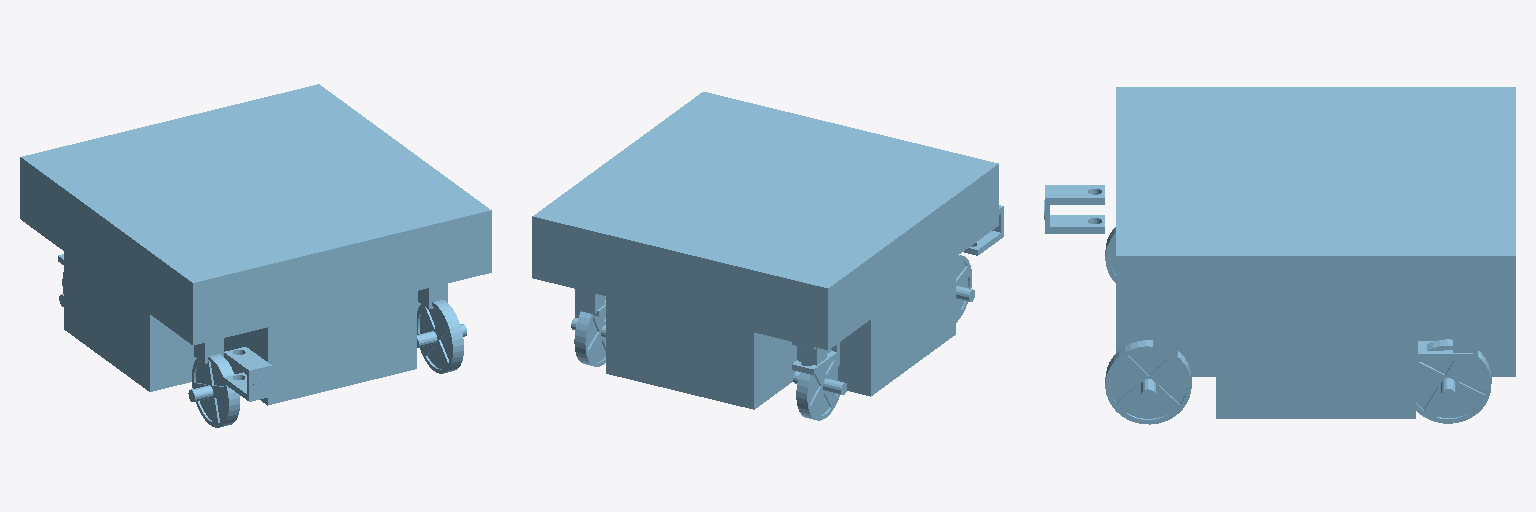
--- What the picture shows (computed from the rendered views, not written in the file) ---
Views: 3 orthographic renders of the robot side by side, from view 1: azimuth 30°, elevation 25°; view 2: azimuth 150°, elevation 25°; view 3: azimuth 270°, elevation 25°.
Robot: mobile_ur10e — 22 links, 21 joints (10 revolute, 4 continuous, 4 prismatic, 3 fixed); root link base_footprint; default pose: joints at zero except 4 at the middle of their limits (f_l_prismatic_joint = 0.03, f_r_prismatic_joint = 0.03, r_r_prismatic_joint = 0.03, r_l_prismatic_joint = 0.03).
Visible links, largest first — view 1: base_link, f_l_ew, f_r_ew, f_r_rotate; view 2: base_link, r_r_ew, r_l_ew, f_r_ew, f_r_rotate, r_r_rotate; view 3: base_link, f_l_ew, r_l_ew, f_r_rotate, r_l_rotate.
Link boxes in pixels (x1,y1,x2,y2): base_link: [20, 84, 491, 405]; f_l_ew: [417, 300, 466, 373]; f_r_ew: [188, 354, 239, 427]; f_r_rotate: [224, 347, 271, 401]; base_link: [532, 92, 998, 409]; r_r_ew: [793, 349, 846, 420]; r_l_ew: [571, 296, 605, 366]; f_r_ew: [956, 255, 974, 322]; f_r_rotate: [964, 205, 1003, 255]; r_r_rotate: [792, 342, 839, 374]; base_link: [1116, 87, 1515, 418]; f_l_ew: [1105, 340, 1191, 424]; r_l_ew: [1416, 339, 1491, 423]; f_r_rotate: [1044, 185, 1104, 233]; r_l_rotate: [1416, 329, 1472, 360].
Bounding box of the posed robot: 0.8 × 0.9427 × 0.4113 m (x, y, z).
11 mesh visuals loaded from 20 distinct referenced files (11 binary STL); not drawn: 9 (reference not matched to a file when rendering).

The robot description file, URDF, robot "mobile_ur10e":
<?xml version="1.0" encoding="utf-8"?>
<!-- This URDF was automatically created by SolidWorks to URDF Exporter! Originally created by Stephen Brawner ([email redacted]) 
     Commit Version: 1.6.0-4-g7f85cfe  Build Version: 1.6.7995.38578
     For more information, please see http://wiki.ros.org/sw_urdf_exporter -->
<robot
  name="mobile_ur10e">
  
  <link
    name="base_footprint"/>
  
   <joint
    name="base_joint"
    type="fixed">
    <origin
      xyz="0.0 0.0 0.0"
      rpy="0.0 0.0 0.0" /> 
    <parent
      link="base_footprint" />
    <child
      link="base_link" />
  </joint>


  <link
    name="base_link">
    <inertial>
      <origin
        xyz="-0.000116077702547958 -0.0350031160113934 0.298943810669157"
        rpy="0 0 0" />
      <mass
        value="56"/>
      <inertia
        ixx="5.31"
        ixy="0.0"
        ixz="0.0"
        iyy="5.258"
        iyz="0.0"
        izz="5.310" />
    </inertial>
    <visual>
      <origin
        xyz="0 0 0"
        rpy="0 0 0" />
      <geometry>
        <mesh
          filename="package://mobile_base/meshes/base_link.STL" />
      </geometry>
      <material
        name="">
        <color
          rgba="0.615686274509804 0.811764705882353 0.925490196078431 1" />
      </material>
    </visual>
    <collision>
      <origin
        xyz="0 0 0"
        rpy="0 0 0" />
      <geometry>
        <mesh
          filename="package://mobile_base/meshes/base_link.STL" />
      </geometry>
    </collision>
  </link>
  <link
    name="f_l_prismatic">
    <inertial>
      <origin
        xyz="-1.66533453693773E-16 2.22044604925031E-16 -0.00277737910243356"
        rpy="0 0 0" />
      <mass
        value="0.63" />
      <inertia
        ixx="0.0"
        ixy="0.0"
        ixz="0.0"
        iyy="0.0"
        iyz="0.0"
        izz="0.0" />
    </inertial>
      <visual>
      <origin
        xyz="0 0 0"
        rpy="0 0 0" />
      <geometry>
        <mesh
          filename="package://mobile_base/meshes/f_l_prismatic.STL" />
      </geometry>
      <material
        name="">
        <color
          rgba="0.615686274509804 0.811764705882353 0.929411764705882 1" />
      </material>
    </visual>
    <collision>
      <origin
        xyz="0 0 0"
        rpy="0 0 0" />
      <geometry>
        <mesh
          filename="package://mobile_base/meshes/f_l_prismatic.STL" />
      </geometry>
    </collision>
  </link>
  <joint
    name="f_l_prismatic_joint"
    type="prismatic">
    <origin
      xyz="0.2998 -0.33482 0.24287"
      rpy="0.0026114 0.002229 0" /> 
    <parent
      link="base_link" />
    <child
      link="f_l_prismatic" />
    <axis xyz="0 0 1" />
      <limit
      lower="0.01"
      upper="0.05"
      effort="0"
      velocity="0" />
    <dynamics 
    damping="50"
    friction="1"
    spring_stiffness="0" 
    spring_referance="0" />
  </joint>
  <link
    name="f_1_rotate">
    <inertial>
      <origin
        xyz="-0.000108967571125163 -0.0488863047415668 -0.000127660035035393"
        rpy="0 0 0" />
      <mass
        value="0.35" />
      <inertia
        ixx="0.01"
        ixy="0.0"
        ixz="0.0"
        iyy="0.01"
        iyz="0.0"
        izz="0.0" />
    </inertial>
    <visual>
      <origin
        xyz="0 0 0"
        rpy="0 0 0" />
      <geometry>
        <mesh
          filename="package://mobile_base/meshes/f_1_rotate.STL" />
      </geometry>
      <material
        name="">
        <color
          rgba="0.615686274509804 0.811764705882353 0.929411764705882 1" />
      </material>
    </visual>
    <collision>
      <origin
        xyz="0 0 0"
        rpy="0 0 0" />
      <geometry>
        <mesh
          filename="package://mobile_base/meshes/f_1_rotate.STL" />
      </geometry>
    </collision>
  </link>
  <joint
    name="f_1_rotate_joint"
    type="revolute">
    <origin
      xyz="0 0 -0.0527773791024335"
      rpy="1.56818496671092 -0.00222898866464819 0" />
    <parent
      link="f_l_prismatic" />
    <child
      link="f_1_rotate" />
    <axis
      xyz="0.00222898681890077 0.999994106215458 0.00261135062896505" />
    <limit
      lower="-1.5708"
      upper="1.5708"
      effort="0"
      velocity="0" />
  </joint>
  <link
    name="f_l_ew">
    <inertial>
      <origin
        xyz="0 0 0"
        rpy="0 0 0" />
      <mass
        value="1.89" />
      <inertia
        ixx="018"
        ixy="0.01"
        ixz="0.17"
        iyy="0.34"
        iyz="0.01"
        izz="0.18" />
    </inertial>
    <visual>
      <origin
        xyz="0 0 0"
        rpy="0 0 0" />
      <geometry>
        <mesh
          filename="package://mobile_base/meshes/f_l_ew.STL" />
      </geometry>
      <material
        name="">
        <color
          rgba="0.615686274509804 0.811764705882353 0.929411764705882 1" />
      </material>
    </visual>
    <collision>
      <origin
        xyz="0 0 0"
        rpy="0 0 0" />
      <geometry>
        <mesh
          filename="package://mobile_base/meshes/f_l_ew.STL" />
      </geometry>
    </collision>
  </link>
  <joint
    name="f_l_ew_rotate"
    type="continuous">
    <origin
      xyz="-0.000222898681890127 -0.0999994106215459 -0.000261135062896545"
      rpy="3.13936402790797 -1.57065442321589 0" />
    <parent
      link="f_1_rotate" />
    <child
      link="f_l_ew" />
    <axis
      xyz="0 0 1" />
  </joint>
  <link
    name="f_r_prismatic">
    <inertial>
      <origin
        xyz="-1.11022302462516E-16 1.11022302462516E-16 -0.0027773791024335"
        rpy="0 0 0" />  
      <mass
        value="0.63" />
      <inertia
        ixx="0.0"
        ixy="0.0"
        ixz="0.0"
        iyy="0.0"
        iyz="0.0"
        izz="0.0" />
    </inertial>
     <visual>
      <origin
        xyz="0 0 0"
        rpy="0 0 0" />
      <geometry>
        <mesh
          filename="package://mobile_base/meshes/f_r_prismatic.STL" />
      </geometry>
      <material
        name="">
        <color
          rgba="0.615686274509804 0.811764705882353 0.929411764705882 1" />
      </material>
    </visual>
    <collision>
      <origin
        xyz="0 0 0"
        rpy="0 0 0" />
      <geometry>
        <mesh
          filename="package://mobile_base/meshes/f_r_prismatic.STL" />
      </geometry>
    </collision>
  </link>
  <joint
    name="f_r_prismatic_joint"
    type="prismatic">
    <origin
      xyz="-0.3002 -0.3349 0.24421"
      rpy="0.0026114 0.002229 0" />
    <parent
      link="base_link" />
    <child
      link="f_r_prismatic" />
    <axis
      initial_position = "500"
      xyz="0 0 1" />
    <limit
      lower="0.01"
       upper="0.05"
      effort="0"
      velocity="0" />
    <dynamics 
    damping="50"  
    friction="1"
    spring_stiffness="0" 
    spring_referance="0"/>
  </joint>
  <link
    name="f_r_rotate">
    <inertial>
      <origin
        xyz="-0.000108967571125163 -0.0488863047415668 -0.000127660035035393"
        rpy="0 0 0" />
      <mass
        value="0.35" />
      <inertia
        ixx="01"
        ixy="0.0"
        ixz="0.0"
        iyy="1"
        iyz="0.0"
        izz="0.0" />
    </inertial>
    <visual>
      <origin
        xyz="0 0 0"
        rpy="0 0 0" />
      <geometry>
        <mesh
          filename="package://mobile_base/meshes/f_r_rotate.STL" />
      </geometry>
      <material
        name="">
        <color
          rgba="0.615686274509804 0.811764705882353 0.929411764705882 1" />
      </material>
    </visual>
    <collision>
      <origin
        xyz="0 0 0"
        rpy="0 0 0" />
      <geometry>
        <mesh
          filename="package://mobile_base/meshes/f_r_rotate.STL" />
      </geometry>
    </collision>
  </link>
  <joint
    name="f_r_rotate_joint"
    type="revolute">
    <origin
      xyz="0 0 -0.0527773791024335"
      rpy="1.56818496671092 -0.00222898866464819 0" />
    <parent
      link="f_r_prismatic" />
    <child
      link="f_r_rotate" />
    <axis
      xyz="0.00222898681890077 0.999994106215458 0.00261135062896505" />
    <limit
      lower="-1.5708"
      upper="1.5708"
      effort="0"
      velocity="0" />
  </joint>
  <link
    name="f_r_ew">
    <inertial>
      <origin
        xyz="5.55111512312578E-17 0 0"
        rpy="0 0 0" />
      <mass
        value="1.89" />
      <inertia
        ixx="018"
        ixy="0.01"
        ixz="0.17"
        iyy="0.34"
        iyz="0.01"
        izz="0.18" />
    </inertial>
    <visual>
      <origin
        xyz="0 0 0"
        rpy="0 0 0" />
      <geometry>
        <mesh
          filename="package://mobile_base/meshes/f_r_ew.STL" />
      </geometry>
      <material
        name="">
        <color
          rgba="0.615686274509804 0.811764705882353 0.929411764705882 1" />
      </material>
    </visual>
    <collision>
      <origin
        xyz="0 0 0"
        rpy="0 0 0" />
      <geometry>
        <mesh
          filename="package://mobile_base/meshes/f_r_ew.STL" />
      </geometry>
    </collision>
  </link>
  <joint
    name="f_r_ew_joint"
    type="continuous">
    <origin
      xyz="-0.000222898681890127 -0.0999994106215459 -0.000261135062896545"
      rpy="-0.00222862568182399 -1.57065442321589 0" />
    <parent
      link="f_r_rotate" />
    <child
      link="f_r_ew" />
    <axis
      xyz="0 0 1" />
  </joint>
  <link
    name="r_r_prismatic">
    <inertial>
      <origin
        xyz="-5.55111512312578E-17 1.11022302462516E-16 -0.00277737910243359"
        rpy="0 0 0" />
      <mass
        value="0.63" />
      <inertia
        ixx="0.0"
        ixy="0.0"
        ixz="0.0"
        iyy="0.0"
        iyz="0.0"
        izz="0.0" />
    </inertial>

    <visual>
      <origin
        xyz="0 0 0"
        rpy="0 0 0" />
      <geometry>
        <mesh
          filename="package://mobile_base/meshes/r_r_prismatic.STL" />
      </geometry>
      <material
        name="">
        <color
          rgba="0.615686274509804 0.811764705882353 0.929411764705882 1" />
      </material>
    </visual>
    <collision>
      <origin
        xyz="0 0 0"
        rpy="0 0 0" />
      <geometry>
        <mesh
          filename="package://mobile_base/meshes/r_r_prismatic.STL" />
      </geometry>
    </collision>
  </link>
  <joint
    name="r_r_prismatic_joint"
    type="prismatic">
    <origin
      xyz="-0.30028 0.2651 0.24578"
      rpy="0.0026114 0.002229 0" /> original 0.24578
    <parent
      link="base_link" />
    <child
      link="r_r_prismatic" />
    <axis
      
      xyz="0 0 1" />
    <limit
      lower="0.01"
       upper="0.05"
      effort="0"
      velocity="0" />
    <dynamics 
    damping="50"
    friction="1"
    spring_stiffness="0" 
    spring_referance="0" />
  </joint>
  <link
    name="r_r_rotate">
    <inertial>
      <origin
        xyz="-0.000108967571125107 -0.0488863047415668 -0.000127660035035393"
        rpy="0 0 0" />
      <mass
        value="0.35" />
      <inertia
        ixx="0.01"
        ixy="0.0"
        ixz="0.0"
        iyy="0.01"
        iyz="0.0"
        izz="0.0" />
    </inertial>
    <visual>
      <origin
        xyz="0 0 0"
        rpy="0 0 0" />
      <geometry>
        <mesh
          filename="package://mobile_base/meshes/r_r_rotate.STL" />
      </geometry>
      <material
        name="">
        <color
          rgba="0.615686274509804 0.811764705882353 0.929411764705882 1" />
      </material>
    </visual>
    <collision>
      <origin
        xyz="0 0 0"
        rpy="0 0 0" />
      <geometry>
        <mesh
          filename="package://mobile_base/meshes/r_r_rotate.STL" />
      </geometry>
    </collision>
  </link>
  <joint
    name="r_r_rotate_joint"
    type="revolute">
    <origin
      xyz="0 0 -0.0527773791024335"
      rpy="1.56818496671092 -0.00222898866464819 0" />
    <parent
      link="r_r_prismatic" />
    <child
      link="r_r_rotate" />
    <axis
      xyz="0.00222898681890077 0.999994106215458 0.00261135062896505" />
    <limit
      lower="-1.5708" 
      upper="1.5708"
      effort="0"
      velocity="0" />
  </joint>
  <link
    name="r_r_ew">
    <inertial>
      <origin
        xyz="0 0 0"
        rpy="0 0 0" />
      <mass
        value="1.89" />
      <inertia
        ixx="018"
        ixy="0.01"
        ixz="0.17"
        iyy="0.34"
        iyz="0.01"
        izz="0.18" />
    </inertial>
    <visual>
      <origin
        xyz="0 0 0"
        rpy="0 0 0" />
      <geometry>
        <mesh
          filename="package://mobile_base/meshes/r_r_ew.STL" />
      </geometry>
      <material
        name="">
        <color
          rgba="0.615686274509804 0.811764705882353 0.929411764705882 1" />
      </material>
    </visual>
    <collision>
      <origin
        xyz="0 0 0"
        rpy="0 0 0" />
      <geometry>
        <mesh
          filename="package://mobile_base/meshes/r_r_ew.STL" />
      </geometry>
    </collision>
  </link>
  <joint
    name="r_r_ew_joint"
    type="continuous">
    <origin
      xyz="-0.000222898681890127 -0.0999994106215459 -0.000261135062896489"
      rpy="-0.00222862568182399 -1.57065442321589 0" />
    <parent
      link="r_r_rotate" />
    <child
      link="r_r_ew" />
    <axis
      xyz="0 0 1" />
  </joint>
  <link
    name="r_l_prismatic">
    <inertial>
      <origin
        xyz="0 1.66533453693773E-16 -0.0027773791024335"
        rpy="0 0 0" />
      <mass
        value="0.63" />
      <inertia
        ixx="0.0"
        ixy="0.0"
        ixz="0.0"
        iyy="0.0"
        iyz="0.0"
        izz="0.0" />
    </inertial>
 
    <visual>
      <origin
        xyz="0 0 0"
        rpy="0 0 0" />
      <geometry>
        <mesh
          filename="package://mobile_base/meshes/r_l_prismatic.STL" />
      </geometry>
      <material
        name="">
        <color
          rgba="0.615686274509804 0.811764705882353 0.929411764705882 1" />
      </material>
    </visual>
    <collision>
      <origin
        xyz="0 0 0"
        rpy="0 0 0" />
      <geometry>
        <mesh
          filename="package://mobile_base/meshes/r_l_prismatic.STL" />
      </geometry>
    </collision>
  </link>

  <joint
    name="r_l_prismatic_joint"
    type="prismatic">
    <origin
      xyz="0.299720607952755 0.265181054293093 0.24444162435061"
      rpy="0.00261136657109324 0.00222898106467852 0" /> -0.24444162435061
    <parent
      link="base_link" />
    <child
      link="r_l_prismatic" />
    <axis
      xyz="0 0 1" />
    <limit
      lower="0.01"
       upper="0.05"
      effort="0"
      velocity="0" />
    <dynamics 
      damping="50"
      friction="1"
      spring_stiffness="0" 
      spring_referance="0"
      />
  </joint>
  <link
    name="r_l_rotate">
    <inertial>
      <origin
        xyz="-0.000108967571125052 -0.0488863047415668 -0.000127660035035393"
        rpy="0 0 0" />
      <mass
        value="0.35" />
      <inertia
        ixx="0.01"
        ixy="0.0"
        ixz="0.0"
        iyy="0.01"
        iyz="0.0"
        izz="0.0" />
    </inertial>
    <visual>
      <origin
        xyz="0 0 0"
        rpy="0 0 0" />
      <geometry>
        <mesh
          filename="package://mobile_base/meshes/r_l_rotate.STL" />
      </geometry>
      <material
        name="">
        <color
          rgba="0.615686274509804 0.811764705882353 0.929411764705882 1" />
      </material>
    </visual>
    <collision>
      <origin
        xyz="0 0 0"
        rpy="0 0 0" />
      <geometry>
        <mesh
          filename="package://mobile_base/meshes/r_l_rotate.STL" />
      </geometry>
    </collision>
  </link>
  <joint
    name="r_l_rotate_joint"
    type="revolute">
    <origin
      xyz="0 0 -0.0527773791024335"
      rpy="1.56818496671092 -0.00222898866464819 0" />
    <parent
      link="r_l_prismatic" />
    <child
      link="r_l_rotate" />
    <axis
      xyz="0.00222898681890077 0.999994106215458 0.00261135062896505" />
    <limit
      lower="-1.5708"
      upper="1.5708"
      effort="0"
      velocity="0" />
  </joint>
  <link
    name="r_l_ew">
    <inertial>
      <origin
        xyz="0 1.38777878078145E-17 0"
        rpy="0 0 0" />
      <mass
        value="1.89" />
      <inertia
        ixx="018"
        ixy="0.01"
        ixz="0.17"
        iyy="0.34"
        iyz="0.01"
        izz="0.18" />
    </inertial>
    <visual>
      <origin
        xyz="0 0 0"
        rpy="0 0 0" />
      <geometry>
        <mesh
          filename="package://mobile_base/meshes/r_l_ew.STL" />
      </geometry>
      <material
        name="">
        <color
          rgba="0.615686274509804 0.811764705882353 0.929411764705882 1" />
      </material>
    </visual>
    <collision>
      <origin
        xyz="0 0 0"
        rpy="0 0 0" />
      <geometry>
        <mesh
          filename="package://mobile_base/meshes/r_l_ew.STL" />
      </geometry>
    </collision>
  </link>
  <joint
    name="r_l_ew_joint"
    type="continuous">
    <origin
      xyz="-0.000222898681890127 -0.0999994106215459 -0.000261135062896489"
      rpy="3.13936402790797 -1.57065442321589 0" />
    <parent
      link="r_l_rotate" />
    <child
      link="r_l_ew" />
    <axis
      xyz="0 0 1" />
  </joint>


  <joint name="mobile_to_ur10e" type="fixed">
    <origin xyz="0 0 0.51" rpy="0 0 0"/>
    <parent link="base_link"/>  
    <child link="manipulator_base_link"/>  
  </joint>  
  <link name="manipulator_base_link">
    <visual>
      <geometry>
        <mesh filename="package://mobile_base/meshes/ur10e/visual/base.dae"/>
      </geometry>
      <material name="LightGrey">
        <color rgba="0.7 0.7 0.7 1.0"/>
      </material>
    </visual>
    <collision>
      <geometry>
        <mesh filename="package://mobile_base/meshes/ur10e/collision/base.stl"/>
      </geometry>
    </collision>
    <inertial>
      <mass value="4.0"/>
      <origin rpy="0 0 0" xyz="0.0 0.0 0.0"/>
      <inertia ixx="0.0061063308908" ixy="0.0" ixz="0.0" iyy="0.0061063308908" iyz="0.0" izz="0.01125"/>
    </inertial>
  </link>
  <joint name="shoulder_pan_joint" type="revolute">
    <parent link="manipulator_base_link"/>
    <child link="shoulder_link"/>
    <origin rpy="0.0 0.0 0.0" xyz="0.0 0.0 0.181"/>
    <axis xyz="0 0 1"/>
    <limit effort="330.0" lower="-6.283185307179586" upper="6.283185307179586" velocity="3.14"/>
    <dynamics damping="0.0" friction="0.0"/>
  </joint>
  <link name="shoulder_link">
    <visual>
      <geometry>
        <mesh filename="package://mobile_base/meshes/ur10e/visual/shoulder.dae"/>
      </geometry>
      <material name="LightGrey">
        <color rgba="0.7 0.7 0.7 1.0"/>
      </material>
    </visual>
    <collision>
      <geometry>
        <mesh filename="package://mobile_base/meshes/ur10e/collision/shoulder.stl"/>
      </geometry>
    </collision>
    <inertial>
      <mass value="7.778"/>
      <origin rpy="0 0 0" xyz="0.0 0.0 0.0"/>
      <inertia ixx="0.03147431257693659" ixy="0.0" ixz="0.0" iyy="0.03147431257693659" iyz="0.0" izz="0.021875624999999996"/>
    </inertial>
  </link>
  <joint name="shoulder_lift_joint" type="revolute">
    <parent link="shoulder_link"/>
    <child link="upper_arm_link"/>
    <origin rpy="0.0 1.5707963267948966 0.0" xyz="0.0 0.176 0.0"/>
    <axis xyz="0 1 0"/>
    <limit effort="330.0" lower="-6.283185307179586" upper="6.283185307179586" velocity="3.14"/>
    <dynamics damping="0.0" friction="0.0"/>
  </joint>
  <link name="upper_arm_link">
    <visual>
      <geometry>
        <mesh filename="package://mobile_base/meshes/ur10e/visual/upperarm.dae"/>
      </geometry>
      <material name="LightGrey">
        <color rgba="0.7 0.7 0.7 1.0"/>
      </material>
    </visual>
    <collision>
      <geometry>
        <mesh filename="package://mobile_base/meshes/ur10e/collision/upperarm.stl"/>
      </geometry>
    </collision>
    <inertial>
      <mass value="12.93"/>
      <origin rpy="0 0 0" xyz="0.0 0.0 0.3065"/>
      <inertia ixx="0.4230737407704359" ixy="0.0" ixz="0.0" iyy="0.4230737407704359" iyz="0.0" izz="0.03636562499999999"/>
    </inertial>
  </link>
  <joint name="elbow_joint" type="revolute">
    <parent link="upper_arm_link"/>
    <child link="forearm_link"/>
    <origin rpy="0.0 0.0 0.0" xyz="0.0 -0.137 0.613"/>
    <axis xyz="0 1 0"/>
    <limit effort="150.0" lower="-3.141592653589793" upper="3.141592653589793" velocity="3.14"/>
    <dynamics damping="0.0" friction="0.0"/>
  </joint>
  <link name="forearm_link">
    <visual>
      <geometry>
        <mesh filename="package://mobile_base/meshes/ur10e/visual/forearm.dae"/>
      </geometry>
      <material name="LightGrey">
        <color rgba="0.7 0.7 0.7 1.0"/>
      </material>
    </visual>
    <collision>
      <geometry>
        <mesh filename="package://mobile_base/meshes/ur10e/collision/forearm.stl"/>
      </geometry>
    </collision>
    <inertial>
      <mass value="3.87"/>
      <origin rpy="0 0 0" xyz="0.0 0.0 0.2855"/>
      <inertia ixx="0.11059036576383598" ixy="0.0" ixz="0.0" iyy="0.11059036576383598" iyz="0.0" izz="0.010884375"/>
    </inertial>
  </link>
  <joint name="wrist_1_joint" type="revolute">
    <parent link="forearm_link"/>
    <child link="wrist_1_link"/>
    <origin rpy="0.0 1.5707963267948966 0.0" xyz="0.0 0.0 0.571"/>
    <axis xyz="0 1 0"/>
    <limit effort="54.0" lower="-6.283185307179586" upper="6.283185307179586" velocity="6.28"/>
    <dynamics damping="0.0" friction="0.0"/>
  </joint>
  <link name="wrist_1_link">
    <visual>
      <geometry>
        <mesh filename="package://mobile_base/meshes/ur10e/visual/wrist1.dae"/>
      </geometry>
      <material name="LightGrey">
        <color rgba="0.7 0.7 0.7 1.0"/>
      </material>
    </visual>
    <collision>
      <geometry>
        <mesh filename="package://mobile_base/meshes/ur10e/collision/wrist1.stl"/>
      </geometry>
    </collision>
    <inertial>
      <mass value="1.96"/>
      <origin rpy="0 0 0" xyz="0.0 0.135 0.0"/>
      <inertia ixx="0.005108247956699999" ixy="0.0" ixz="0.0" iyy="0.005108247956699999" iyz="0.0" izz="0.005512499999999999"/>
    </inertial>
  </link>
  <joint name="wrist_2_joint" type="revolute">
    <parent link="wrist_1_link"/>
    <child link="wrist_2_link"/>
    <origin rpy="0.0 0.0 0.0" xyz="0.0 0.135 0.0"/>
    <axis xyz="0 0 1"/>
    <limit effort="54.0" lower="-6.283185307179586" upper="6.283185307179586" velocity="6.28"/>
    <dynamics damping="0.0" friction="0.0"/>
  </joint>
  <link name="wrist_2_link">
    <visual>
      <geometry>
        <mesh filename="package://mobile_base/meshes/ur10e/visual/wrist2.dae"/>
      </geometry>
      <material name="LightGrey">
        <color rgba="0.7 0.7 0.7 1.0"/>
      </material>
    </visual>
    <collision>
      <geometry>
        <mesh filename="package://mobile_base/meshes/ur10e/collision/wrist2.stl"/>
      </geometry>
    </collision>
    <inertial>
      <mass value="1.96"/>
      <origin rpy="0 0 0" xyz="0.0 0.0 0.12"/>
      <inertia ixx="0.005108247956699999" ixy="0.0" ixz="0.0" iyy="0.005108247956699999" iyz="0.0" izz="0.005512499999999999"/>
    </inertial>
  </link>
  <joint name="wrist_3_joint" type="revolute">
    <parent link="wrist_2_link"/>
    <child link="wrist_3_link"/>
    <origin rpy="0.0 0.0 0.0" xyz="0.0 0.0 0.12"/>
    <axis xyz="0 1 0"/>
    <limit effort="54.0" lower="-6.283185307179586" upper="6.283185307179586" velocity="6.28"/>
    <dynamics damping="0.0" friction="0.0"/>
  </joint>
  <link name="wrist_3_link">
    <visual>
      <geometry>
        <mesh filename="package://mobile_base/meshes/ur10e/visual/wrist3.dae"/>
      </geometry>
      <material name="LightGrey">
        <color rgba="0.7 0.7 0.7 1.0"/>
      </material>
    </visual>
    <collision>
      <geometry>
        <mesh filename="package://mobile_base/meshes/ur10e/collision/wrist3.stl"/>
      </geometry>
    </collision>
    <inertial>
      <mass value="0.202"/>
      <origin rpy="1.5707963267948966 0 0" xyz="0.0 0.092 0.0"/>
      <inertia ixx="0.00014434577559500002" ixy="0.0" ixz="0.0" iyy="0.00014434577559500002" iyz="0.0" izz="0.00020452500000000002"/>
    </inertial>
  </link>
  <joint name="ee_fixed_joint" type="fixed">
    <parent link="wrist_3_link"/>
    <child link="ee_link"/>
    <origin rpy="0.0 0.0 1.5707963267948966" xyz="0.0 0.117 0.0"/>
  </joint>
  <link name="ee_link">
    <collision>
      <geometry>
        <box size="0.01 0.01 0.01"/>
      </geometry>
      <origin rpy="0 0 0" xyz="-0.01 0 0"/>
    </collision>
  </link>

  <transmission name="shoulder_pan_trans">
      <type>transmission_interface/SimpleTransmission</type>
      <joint name="shoulder_pan_joint">
        <hardwareInterface>hardware_interface/EffortJointInterface</hardwareInterface>
      </joint>
      <actuator name="shoulder_pan_motor">
        <hardwareInterface>hardware_interface/EffortJointInterface</hardwareInterface>
        <mechanicalReduction>1</mechanicalReduction>
      </actuator>
    </transmission>

    <transmission name="shoulder_lift_trans">
      <type>transmission_interface/SimpleTransmission</type>
      <joint name="shoulder_lift_joint">
        <hardwareInterface>hardware_interface/EffortJointInterface</hardwareInterface>
      </joint>
      <actuator name="shoulder_lift_motor">
        <hardwareInterface>hardware_interface/EffortJointInterface</hardwareInterface>
        <mechanicalReduction>1</mechanicalReduction>
      </actuator>
    </transmission>

    <transmission name="elbow_trans">
      <type>transmission_interface/SimpleTransmission</type>
      <joint name="elbow_joint">
        <hardwareInterface>hardware_interface/EffortJointInterface</hardwareInterface>
      </joint>
      <actuator name="elbow_motor">
        <hardwareInterface>hardware_interface/EffortJointInterface</hardwareInterface>
        <mechanicalReduction>1</mechanicalReduction>
      </actuator>
    </transmission>

    <transmission name="wrist_1_trans">
      <type>transmission_interface/SimpleTransmission</type>
      <joint name="wrist_1_joint">
        <hardwareInterface>hardware_interface/EffortJointInterface</hardwareInterface>
      </joint>
      <actuator name="wrist_1_motor">
        <hardwareInterface>hardware_interface/EffortJointInterface</hardwareInterface>
        <mechanicalReduction>1</mechanicalReduction>
      </actuator>
    </transmission>

    <transmission name="wrist_2_trans">
      <type>transmission_interface/SimpleTransmission</type>
      <joint name="wrist_2_joint">
        <hardwareInterface>hardware_interface/EffortJointInterface</hardwareInterface>
      </joint>
      <actuator name="wrist_2_motor">
        <hardwareInterface>hardware_interface/EffortJointInterface</hardwareInterface>
        <mechanicalReduction>1</mechanicalReduction>
      </actuator>
    </transmission>

    <transmission name="wrist_3_trans">
      <type>transmission_interface/SimpleTransmission</type>
      <joint name="wrist_3_joint">
        <hardwareInterface>hardware_interface/EffortJointInterface</hardwareInterface>
      </joint>
      <actuator name="wrist_3_motor">
        <hardwareInterface>hardware_interface/EffortJointInterface</hardwareInterface>
        <mechanicalReduction>1</mechanicalReduction>
      </actuator>
    </transmission>

    <gazebo>
      <plugin name="gazebo_ros_control" filename="libgazebo_ros_control.so">
      <robotNamespace>/mobile_ur10e</robotNamespace>
      <robotSimType>gazebo_ros_control/DefaultRobotHWSim</robotSimType>
      </plugin>
    </gazebo>

</robot>
